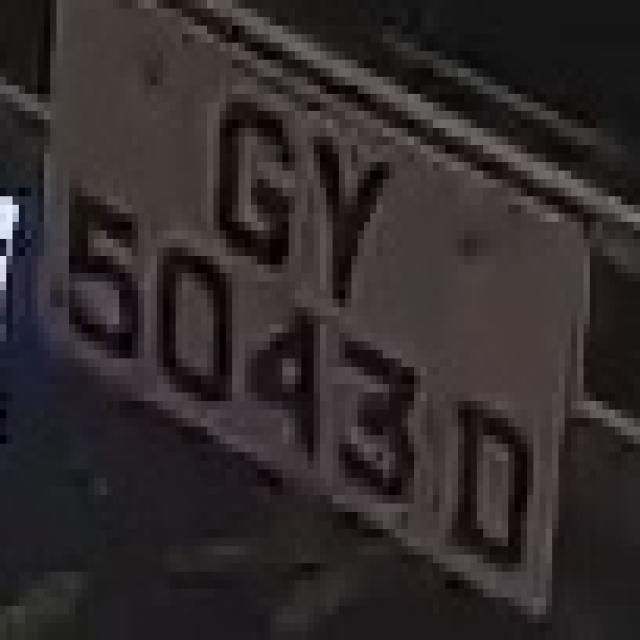0: (132, 196, 232, 435)
3: (332, 298, 420, 538)
4: (232, 256, 333, 469)
5: (56, 162, 144, 384)
D: (445, 367, 546, 606)
G: (201, 68, 295, 316)
Y: (289, 77, 395, 307)
